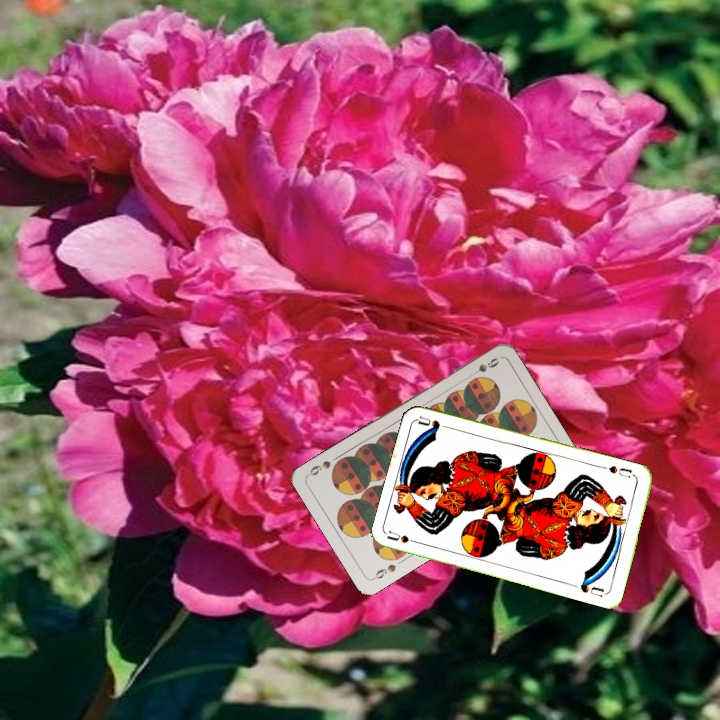S9: (465, 354, 502, 380), (369, 560, 399, 583)
SU: (384, 527, 425, 547), (605, 461, 639, 481)
